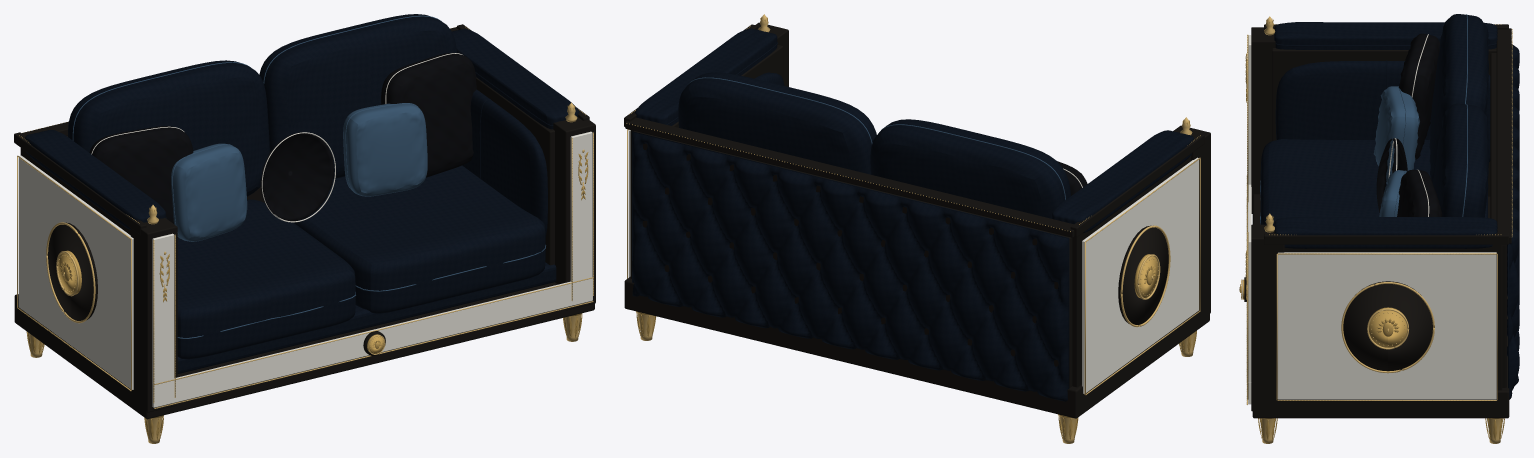
3 views of the same model, side by side, from view 1: azimuth 30°, elevation 25°; view 2: azimuth 150°, elevation 25°; view 3: azimuth 270°, elevation 25° (orthographic). The views are drawn at different scales.
Visible parts, largest first — view 1: Wellington navy two-seat sofa | 50293.0 | pair-12 web batch; view 2: Wellington navy two-seat sofa | 50293.0 | pair-12 web batch; view 3: Wellington navy two-seat sofa | 50293.0 | pair-12 web batch.
Part boxes in pixels (<box>): Wellington navy two-seat sofa | 50293.0 | pair-12 web batch: <box>14,14,595,443</box>; Wellington navy two-seat sofa | 50293.0 | pair-12 web batch: <box>624,14,1210,443</box>; Wellington navy two-seat sofa | 50293.0 | pair-12 web batch: <box>1239,14,1519,443</box>.
Bounding box in the file's own units: 1.8 × 0.95 × 0.95.
8 materials, 2 textured.
